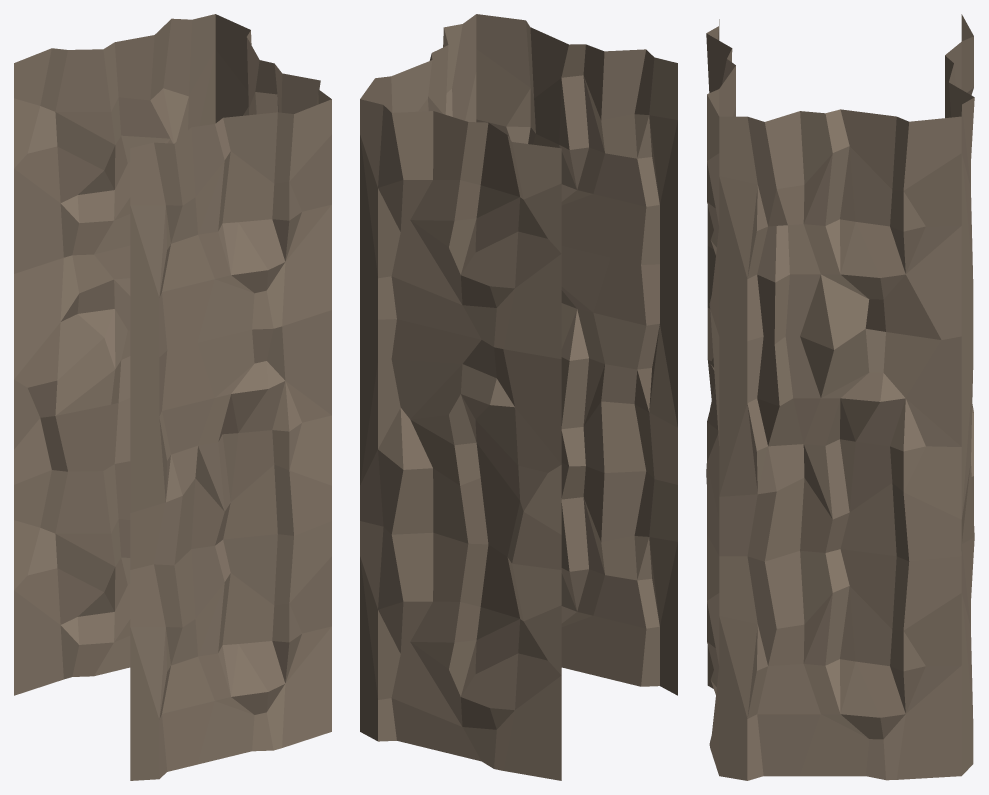
Rendered from ER_Terrain_3x1_Dirt_3SidedInverted_001_B.fbx.
3 views of the same model, side by side, from view 1: azimuth 30°, elevation 25°; view 2: azimuth 150°, elevation 25°; view 3: azimuth 270°, elevation 25° (orthographic). The views are drawn at different scales.
Visible parts, largest first — view 1: ER_Terrain_3x1_Dirt_3SidedInverted_001_B; view 2: ER_Terrain_3x1_Dirt_3SidedInverted_001_B; view 3: ER_Terrain_3x1_Dirt_3SidedInverted_001_B.
Part boxes in pixels (box(x1,y1,x2,y2)): ER_Terrain_3x1_Dirt_3SidedInverted_001_B: box(14, 14, 331, 780); ER_Terrain_3x1_Dirt_3SidedInverted_001_B: box(360, 14, 677, 780); ER_Terrain_3x1_Dirt_3SidedInverted_001_B: box(706, 14, 974, 780).
Size of the model in its own units: 1.13 by 3 by 1.11.
